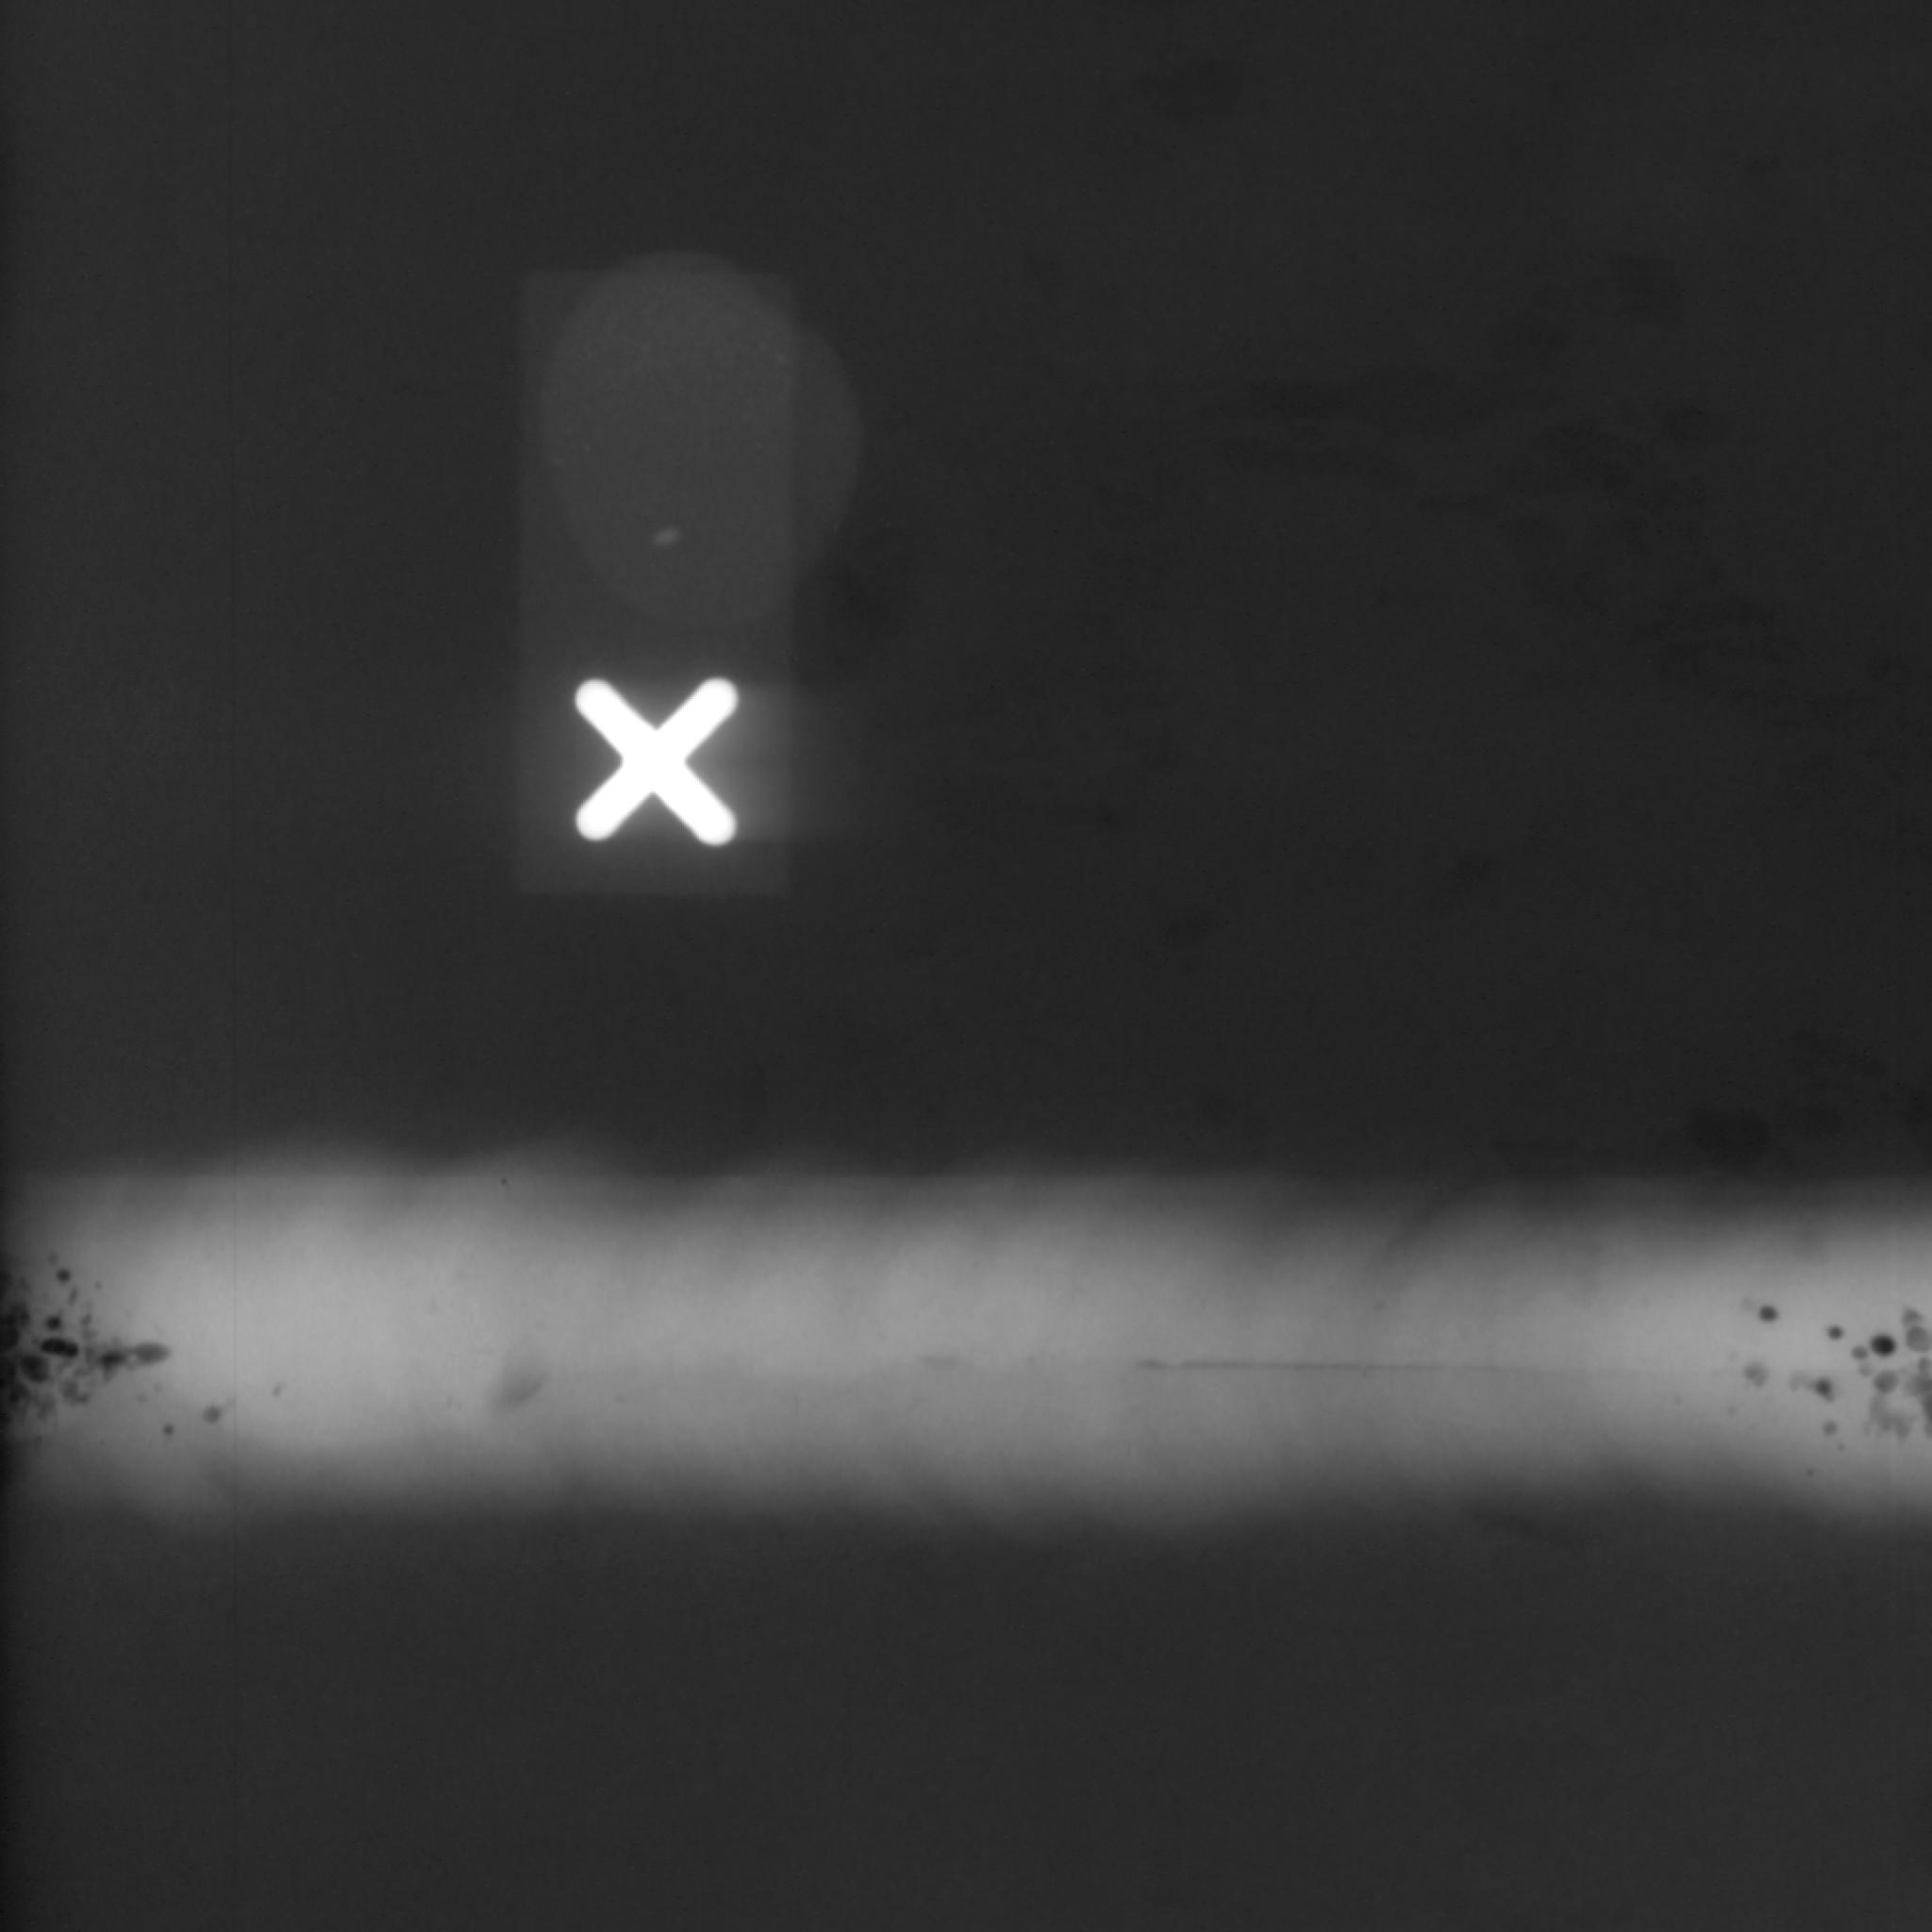FF: (1306, 1469, 1609, 1581)
FP: (1088, 1309, 1664, 1410)
IE: (0, 1186, 300, 1469), (1718, 1257, 1932, 1509), (393, 1243, 588, 1439)
